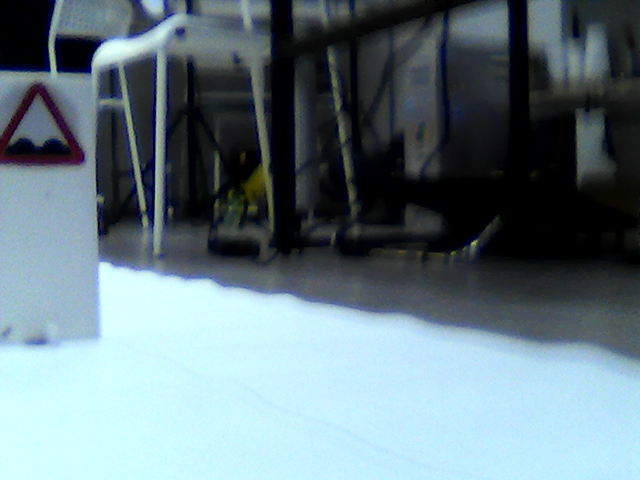Nerov: (1, 83, 87, 168)
